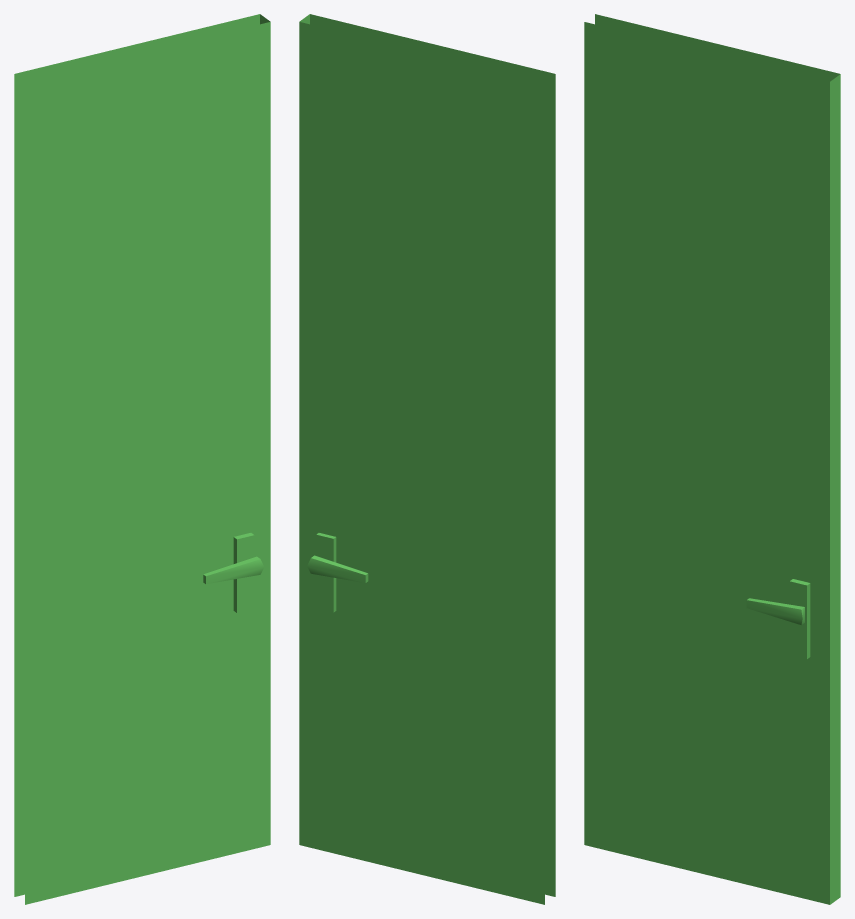
File: Gen_Door_A_Fr_Side1.fbx
The picture shows the model from 3 angles, left to right: view 1: azimuth 30°, elevation 25°; view 2: azimuth 150°, elevation 25°; view 3: azimuth 330°, elevation 25°; orthographic projection.
Parts seen in each view (by area): view 1: Gen_Door_A_Fr_Side1; view 2: Gen_Door_A_Fr_Side1; view 3: Gen_Door_A_Fr_Side1.
Part boxes in pixels (x1=…): Gen_Door_A_Fr_Side1: x1=14, y1=14, x2=270, y2=904; Gen_Door_A_Fr_Side1: x1=299, y1=14, x2=555, y2=904; Gen_Door_A_Fr_Side1: x1=584, y1=14, x2=840, y2=904.
Size of the model in its own units: 100 by 320 by 21.32.
